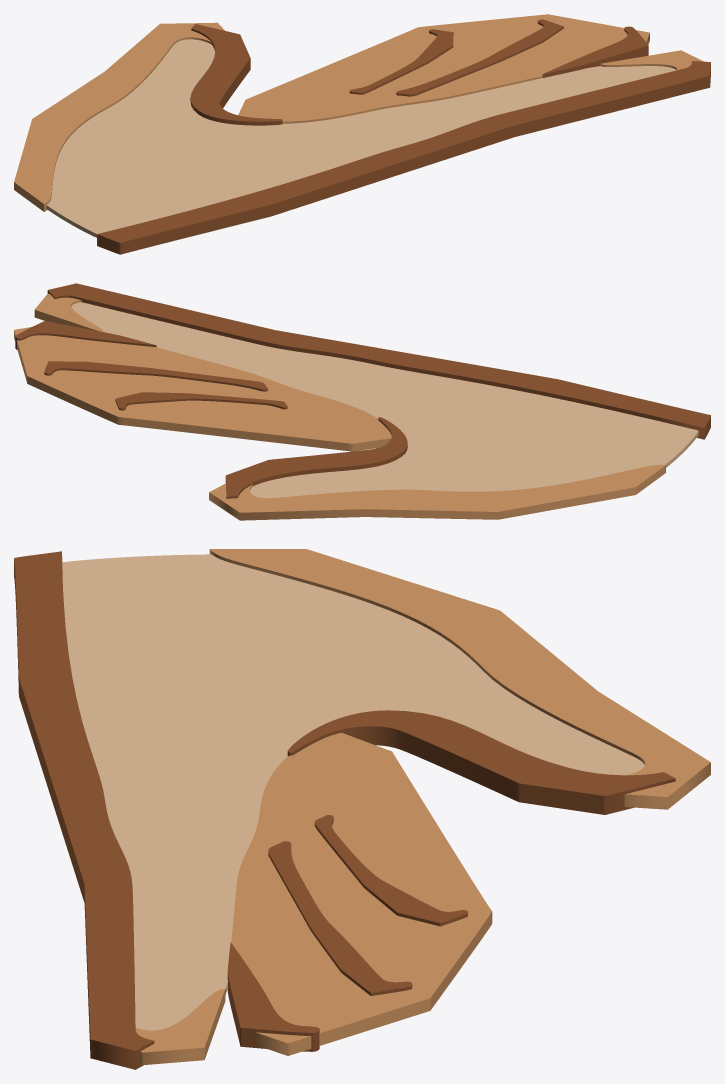
The model's file is emoji_u1faf4_1f3fc.glb.
The picture shows the model from 3 angles, top to bottom: view 1: azimuth 30°, elevation 25°; view 2: azimuth 150°, elevation 25°; view 3: azimuth 270°, elevation 25°; orthographic projection. The views are drawn at different scales.
Visible parts, largest first — view 1: emoji_u1faf4_1f3fc; view 2: emoji_u1faf4_1f3fc; view 3: emoji_u1faf4_1f3fc.
Part boxes in pixels (x1,y1,x2,y2): emoji_u1faf4_1f3fc: (14, 14, 710, 254); emoji_u1faf4_1f3fc: (14, 283, 710, 520); emoji_u1faf4_1f3fc: (14, 549, 710, 1069).
Size of the model in its own units: 0.0343 by 0.0006 by 0.02.
